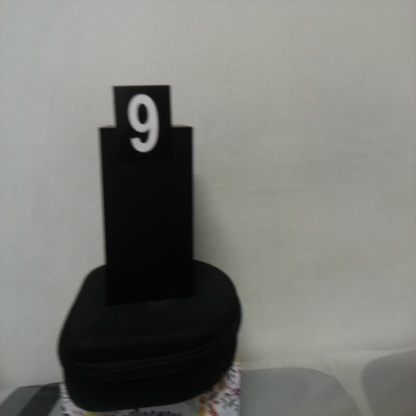id_9: (114, 87, 172, 172)
